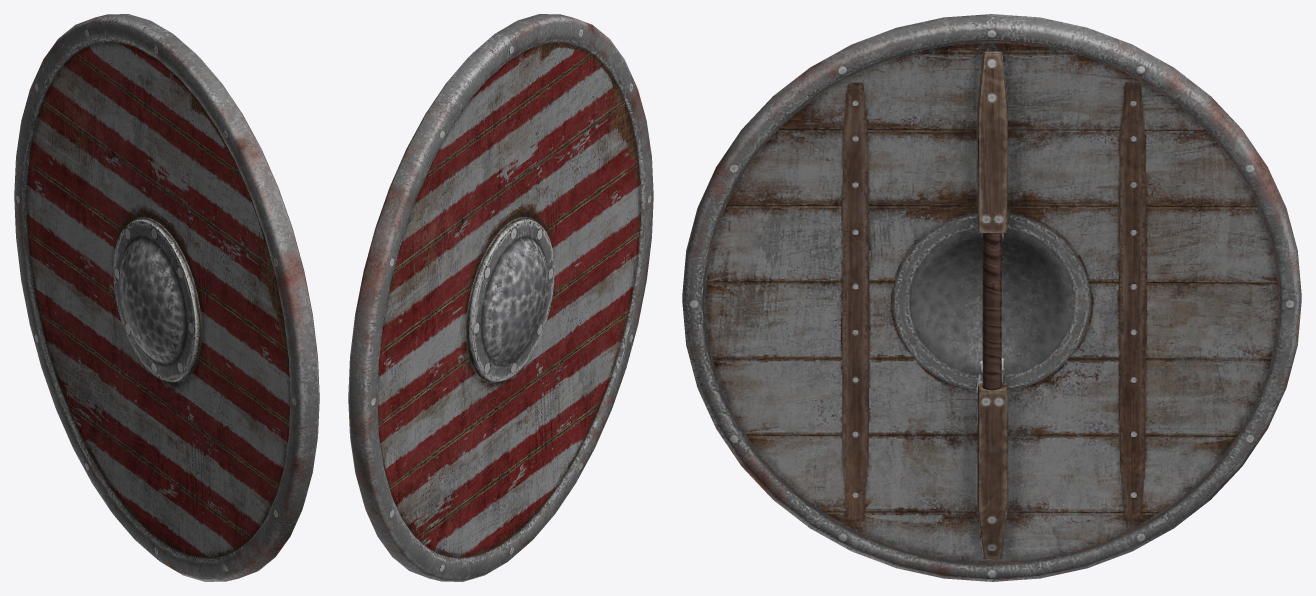
File: Round_Shield_01.fbx
The picture shows the model from 3 angles, left to right: view 1: azimuth 30°, elevation 25°; view 2: azimuth 150°, elevation 25°; view 3: azimuth 270°, elevation 25°; orthographic projection. The views are drawn at different scales.
Parts seen in each view (by area): view 1: Round_Shield_01_LOD0; view 2: Round_Shield_01_LOD0; view 3: Round_Shield_01_LOD0.
Boxes of the visible parts, x1=… form: Round_Shield_01_LOD0: x1=14, y1=14, x2=319, y2=581; Round_Shield_01_LOD0: x1=348, y1=14, x2=653, y2=581; Round_Shield_01_LOD0: x1=682, y1=14, x2=1301, y2=581.
Size of what is drawn, in the model's own units: 7.83 by 74.94 by 74.94.
